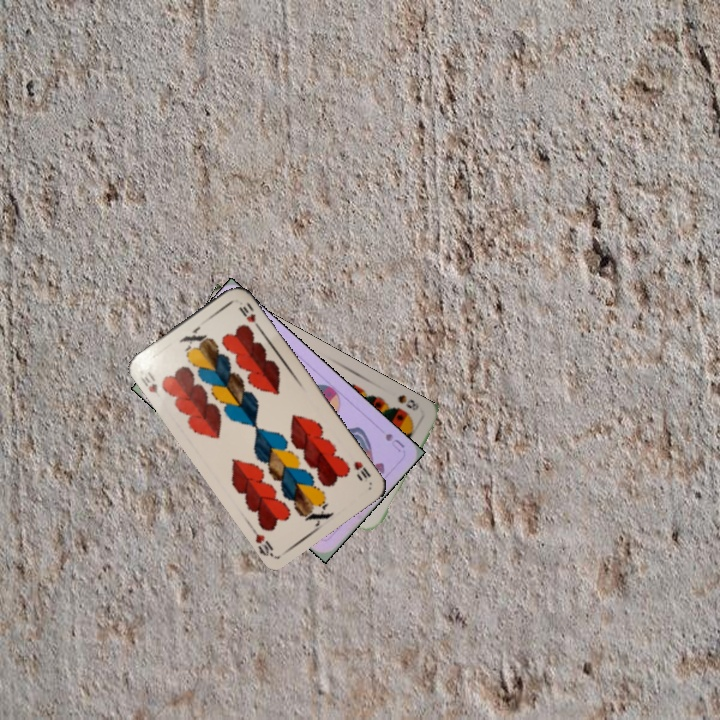H10: (137, 367, 160, 396), (350, 457, 373, 485)
S8: (394, 391, 421, 413)
SU: (381, 429, 407, 455)
